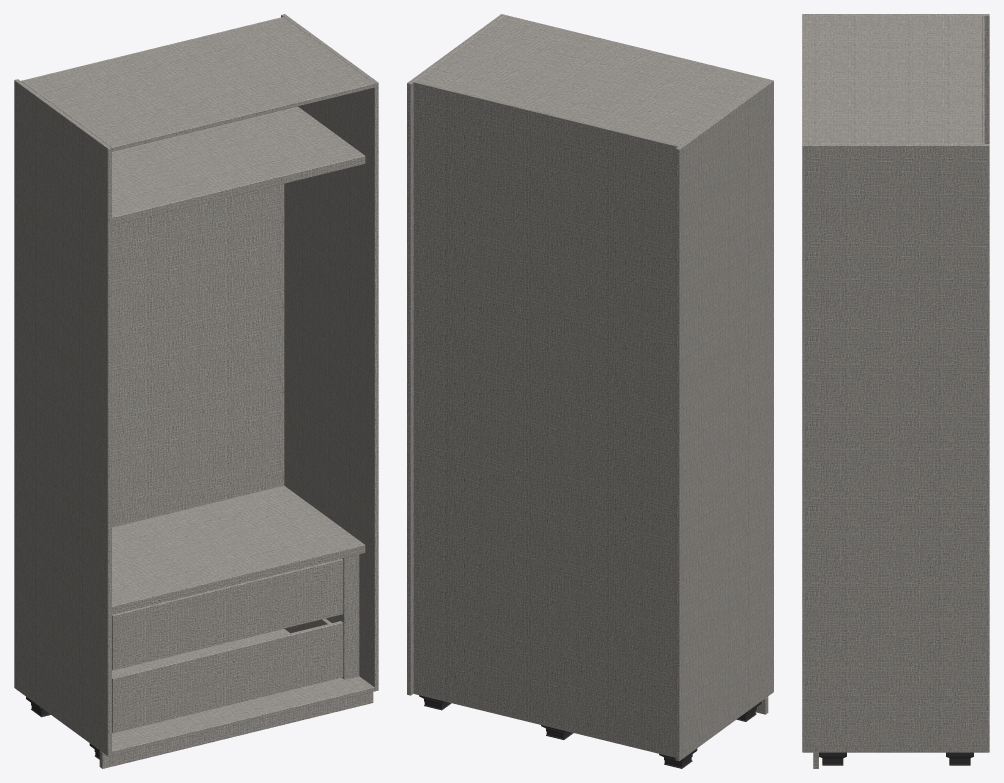
Rendered from cbib12133.gltf.
3 views of the same model, side by side, from view 1: azimuth 30°, elevation 25°; view 2: azimuth 150°, elevation 25°; view 3: azimuth 270°, elevation 25° (orthographic).
Parts seen in each view (by area): view 1: CBIB12133; view 2: CBIB12133; view 3: CBIB12133.
Boxes of the visible parts, <box> form: CBIB12133: <box>14,14,378,768</box>; CBIB12133: <box>407,14,773,768</box>; CBIB12133: <box>802,14,989,768</box>.
Size of the model in its own units: 1 by 2.2 by 0.6.
Materials: 3 (2 with a texture image).
